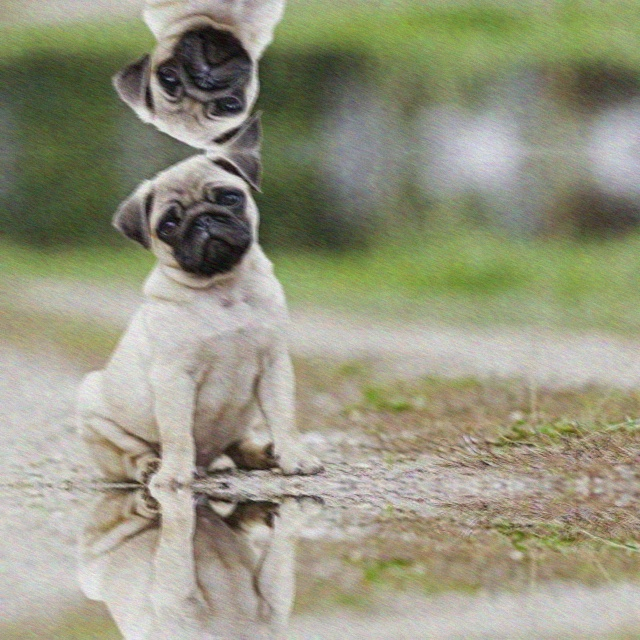dog: (74, 151, 304, 487), (74, 486, 304, 640), (74, 0, 304, 152)
